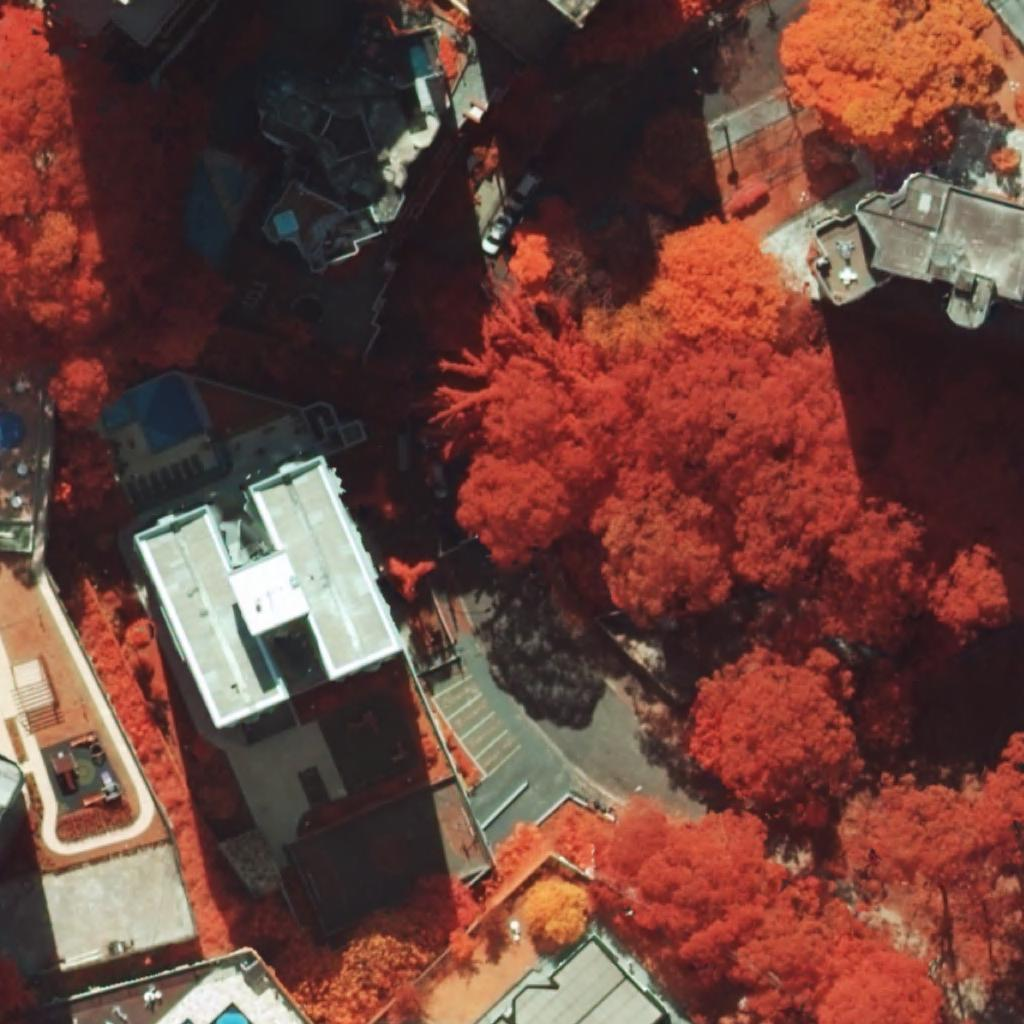pool: (100, 374, 204, 456), (209, 1001, 254, 1024)
